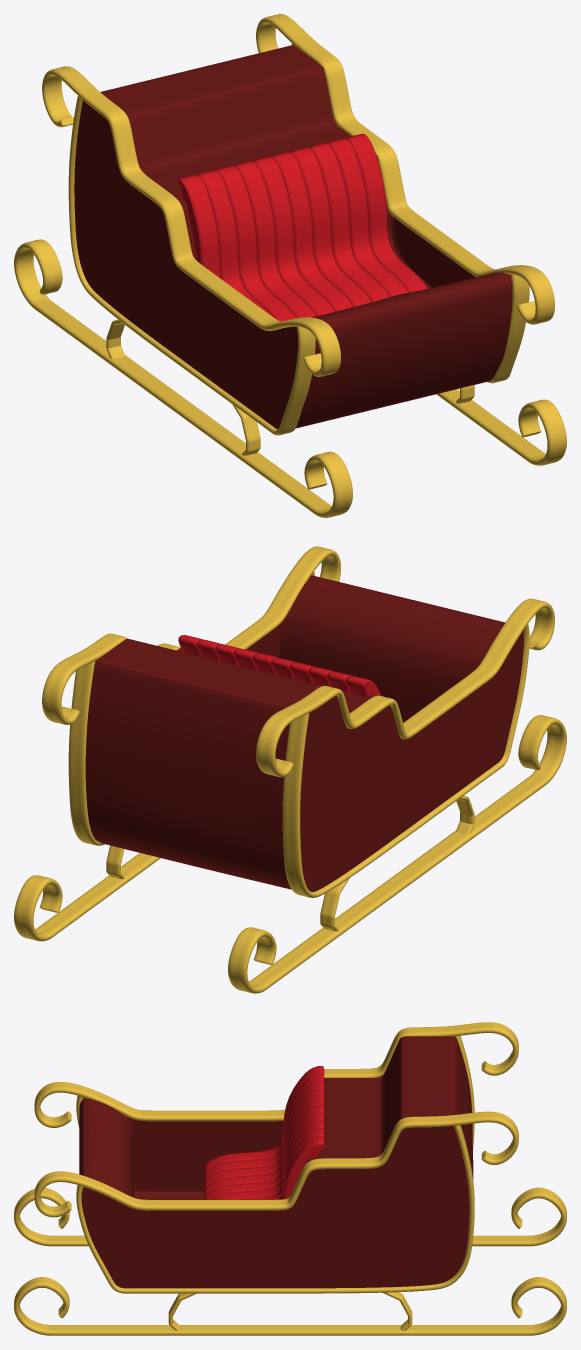
File: sleigh.fbx
3 renders of one model, top to bottom at view 1: azimuth 30°, elevation 25°; view 2: azimuth 150°, elevation 25°; view 3: azimuth 270°, elevation 25°, orthographic. The views are drawn at different scales.
Visible parts, largest first — view 1: Sled_Chassis, Sled_Seat, Sled_UpperRail, Sled_Skids, Sled_OuterRail, Sled_SkidSupport; view 2: Sled_Chassis, Sled_Skids, Sled_UpperRail, Sled_OuterRail, Sled_Seat, Sled_SkidSupport; view 3: Sled_Chassis, Sled_UpperRail, Sled_Skids, Sled_Seat, Sled_OuterRail, Sled_SkidSupport.
Part boxes in pixels (left/top/right/bottom): Sled_Chassis: left=74, top=45, right=512, bottom=429; Sled_Seat: left=178, top=133, right=427, bottom=321; Sled_UpperRail: left=42, top=14, right=554, bottom=376; Sled_Skids: left=14, top=239, right=566, bottom=517; Sled_OuterRail: left=68, top=43, right=529, bottom=435; Sled_SkidSupport: left=106, top=319, right=474, bottom=455; Sled_Chassis: left=85, top=575, right=523, bottom=891; Sled_Skids: left=14, top=715, right=566, bottom=993; Sled_UpperRail: left=42, top=546, right=554, bottom=777; Sled_OuterRail: left=68, top=571, right=529, bottom=897; Sled_Seat: left=178, top=635, right=380, bottom=696; Sled_SkidSupport: left=106, top=795, right=474, bottom=931; Sled_Chassis: left=79, top=1036, right=473, bottom=1288; Sled_UpperRail: left=34, top=1022, right=518, bottom=1217; Sled_Skids: left=14, top=1187, right=566, bottom=1335; Sled_Seat: left=204, top=1066, right=324, bottom=1199; Sled_OuterRail: left=76, top=1035, right=474, bottom=1293; Sled_SkidSupport: left=168, top=1292, right=412, bottom=1330.
Size of the model in its own units: 250 by 262 by 601.
